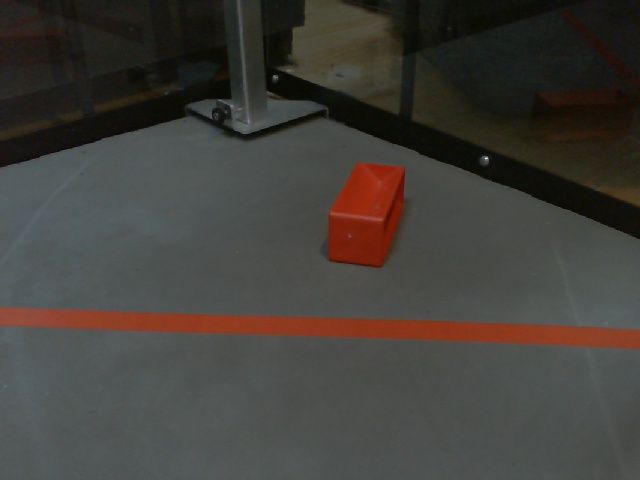RedSample: (327, 158, 406, 268)
